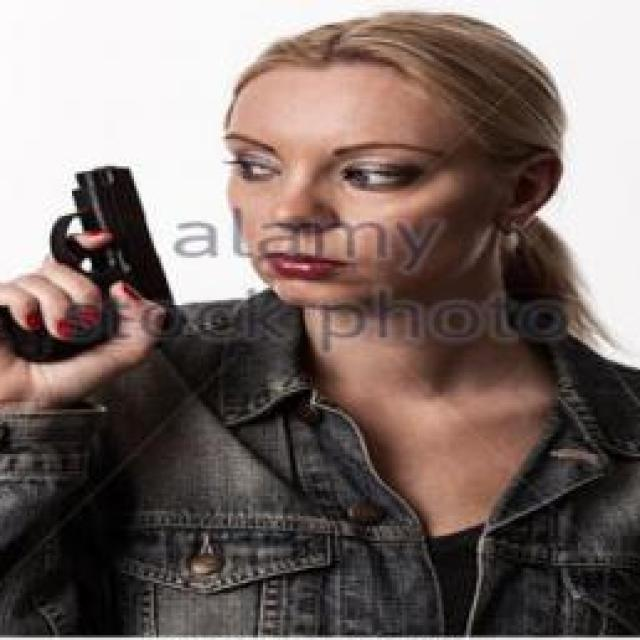pistol: (0, 163, 185, 364)
